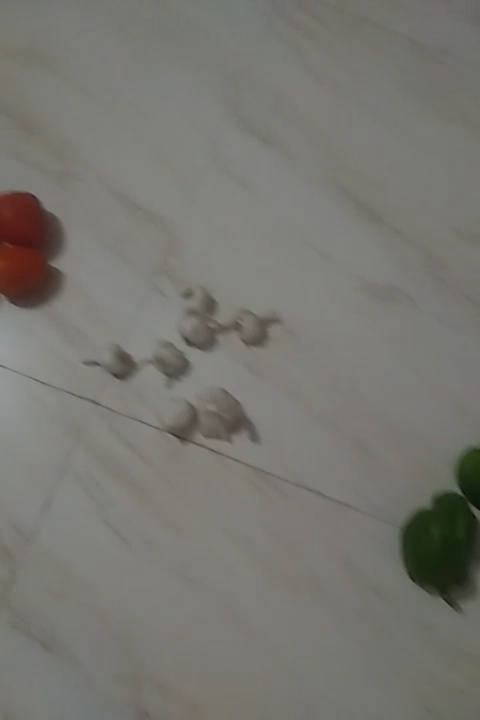capsicum: (411, 493, 479, 609), (456, 441, 480, 508)
garlic: (192, 385, 252, 435), (224, 307, 280, 345), (172, 313, 219, 354), (77, 346, 132, 377), (157, 390, 194, 434), (136, 342, 187, 371), (176, 282, 213, 320)
tomato: (1, 238, 56, 306), (1, 179, 52, 250)
